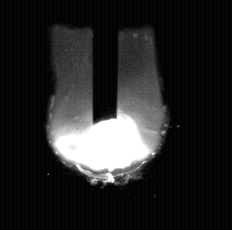arame: (94, 0, 119, 125)
poca: (47, 0, 163, 230)
